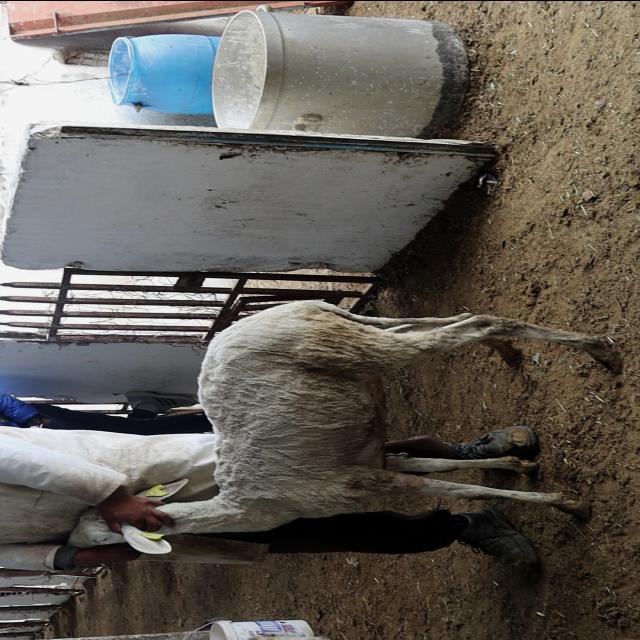Score_1: (69, 300, 617, 553)
